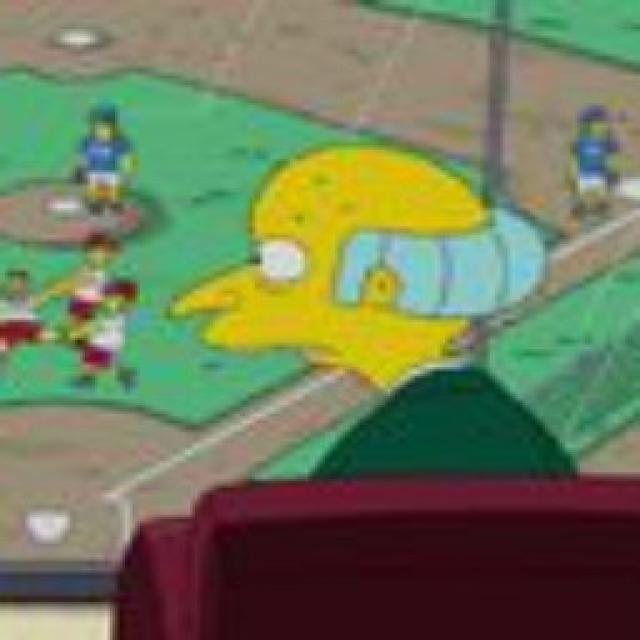Charles Montgomery Burns: (171, 142, 559, 404)
